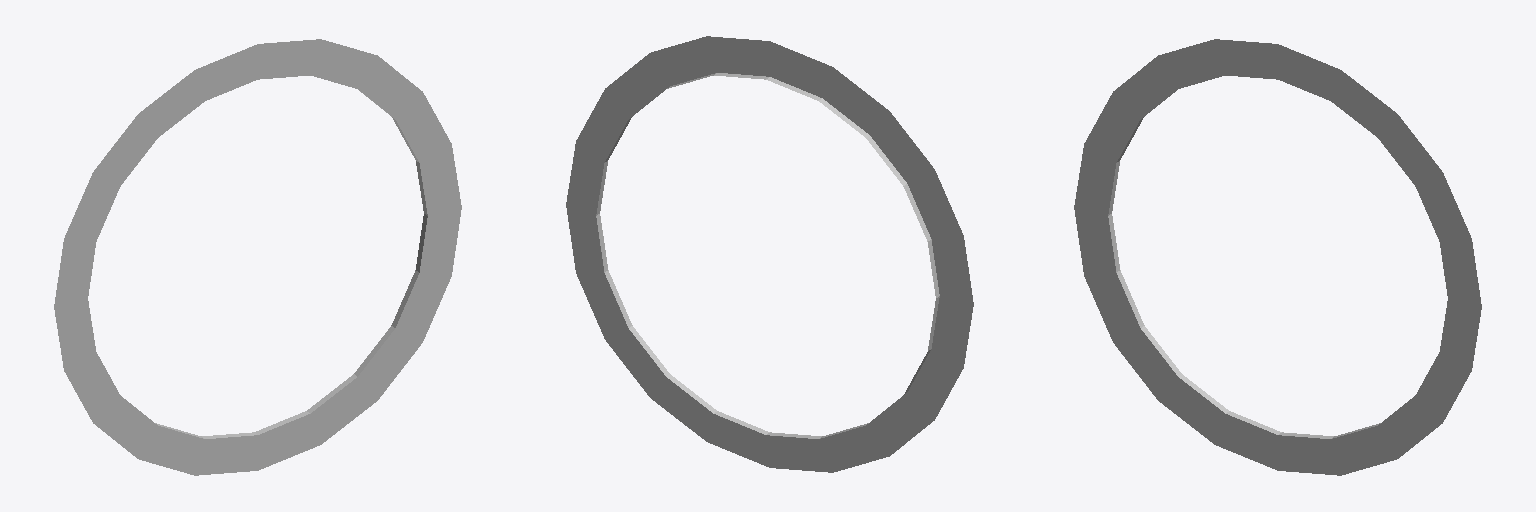
Rendered from hippie_saw_back.obj.
The picture shows the model from 3 angles: view 1: azimuth 30°, elevation 25°; view 2: azimuth 150°, elevation 25°; view 3: azimuth 330°, elevation 25°; orthographic projection.
Parts seen in each view (by area): view 1: Round_corridor_cyberpunk_Traps_v1; view 2: Round_corridor_cyberpunk_Traps_v1; view 3: Round_corridor_cyberpunk_Traps_v1.
Part boxes in pixels (x1,y1,x2,y2): Round_corridor_cyberpunk_Traps_v1: (54, 39, 461, 475); Round_corridor_cyberpunk_Traps_v1: (566, 36, 973, 472); Round_corridor_cyberpunk_Traps_v1: (1074, 39, 1481, 475).
Size of the model in its own units: 0.1656 by 0.1656 by 0.0028.